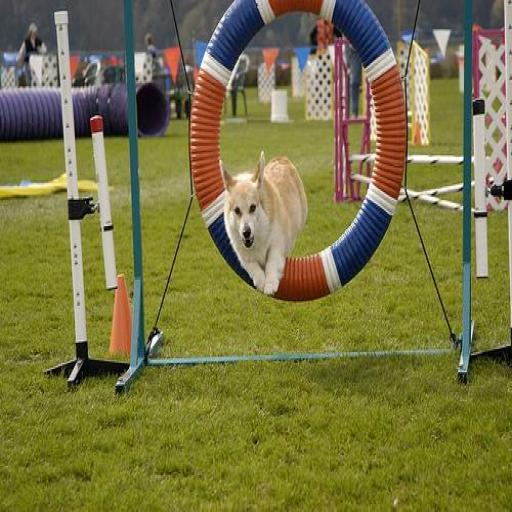dog_face: (216, 157, 270, 250)
